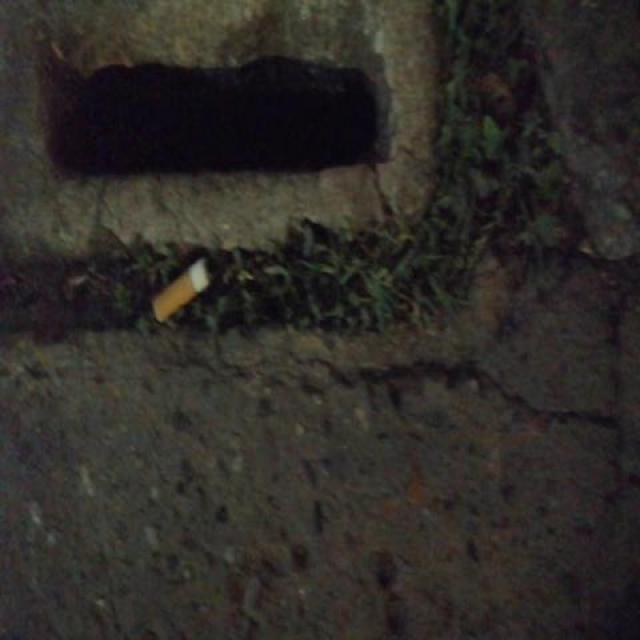non-organic waste: (148, 254, 217, 330)
